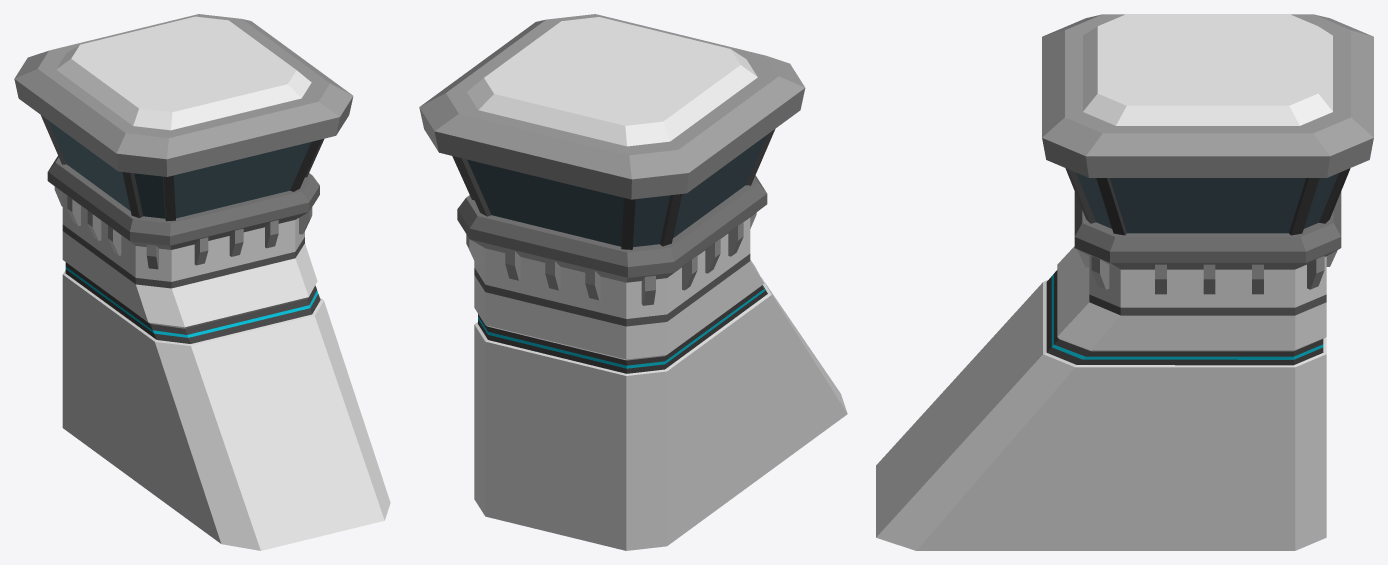
File: space_station_026.fbx
The picture shows the model from 3 angles, left to right: view 1: azimuth 30°, elevation 25°; view 2: azimuth 150°, elevation 25°; view 3: azimuth 270°, elevation 25°; orthographic projection. The views are drawn at different scales.
Parts seen in each view (by area): view 1: space_station_026; view 2: space_station_026; view 3: space_station_026.
Part boxes in pixels (x1,y1,x2,y2): space_station_026: [14, 14, 390, 550]; space_station_026: [419, 14, 847, 550]; space_station_026: [876, 14, 1373, 550].
Bounding box in the file's own units: 1348 × 2054 × 2010.
